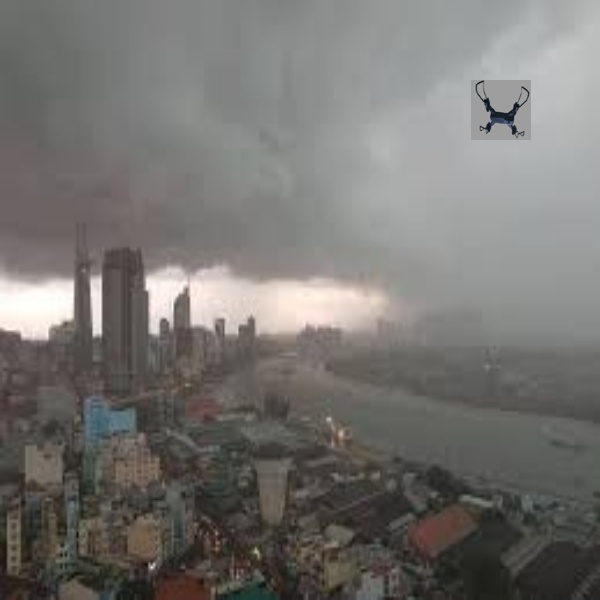drone: (469, 76, 534, 140)
